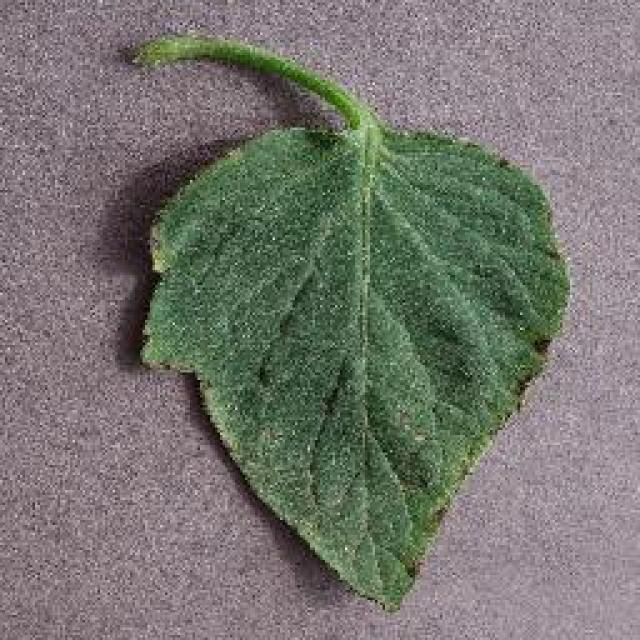Tomato___Target_Spot: (142, 38, 568, 605)
